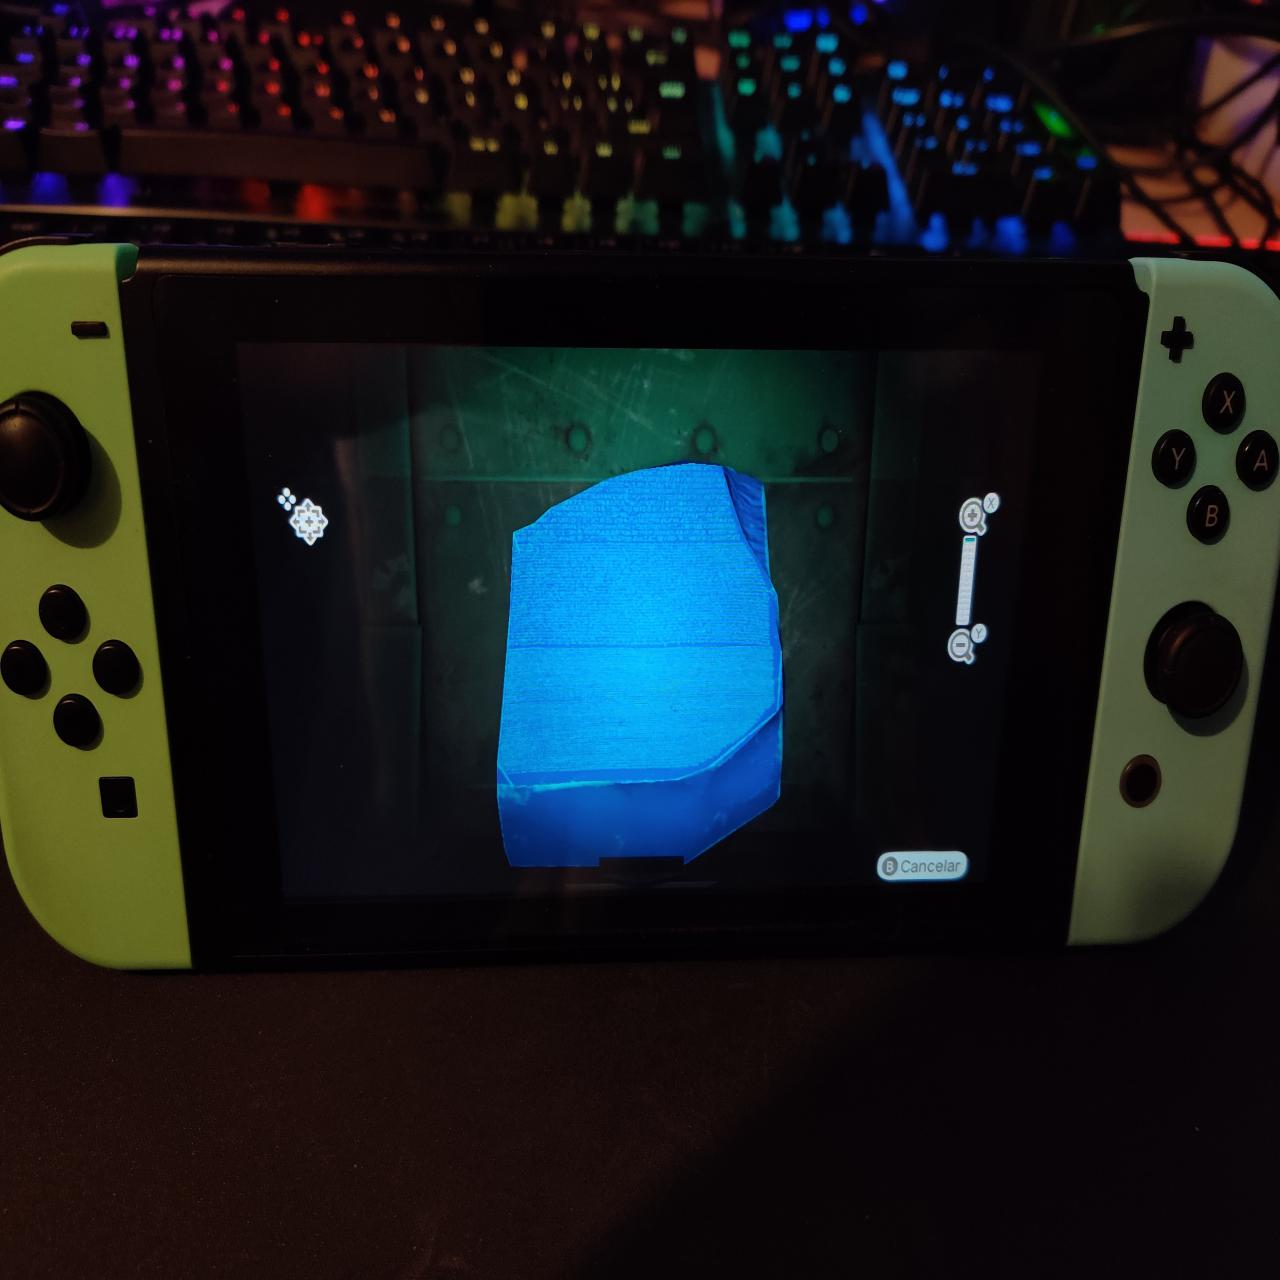RosettaStoneFake: (496, 462, 789, 884)
